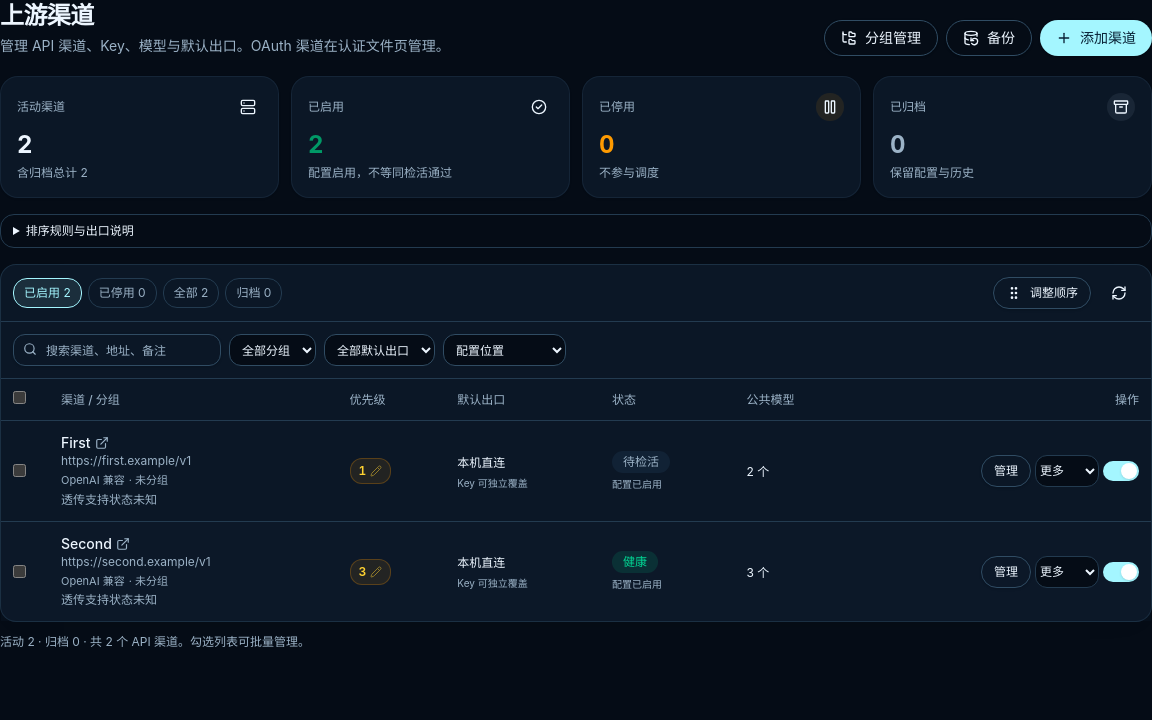
Test: channel management workflow › makes selection and batch egress directly available
This screenshot has width=1152, height=720.
Click the checkbox named "选择 First" at (20, 471), box [13,464,26,477]
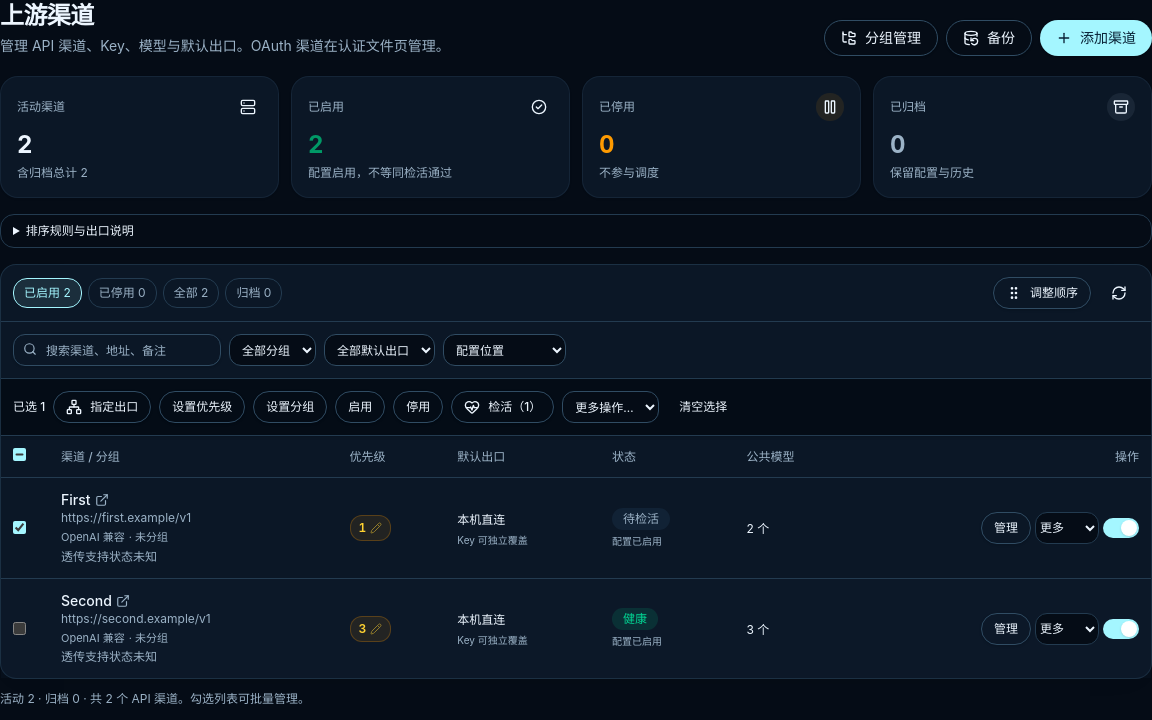
Expected: the button "指定出口" is shown
Expected: the button "设置优先级" is shown, [159,391,245,423]
Click the button "指定出口" at (102, 407), box [53,391,151,423]
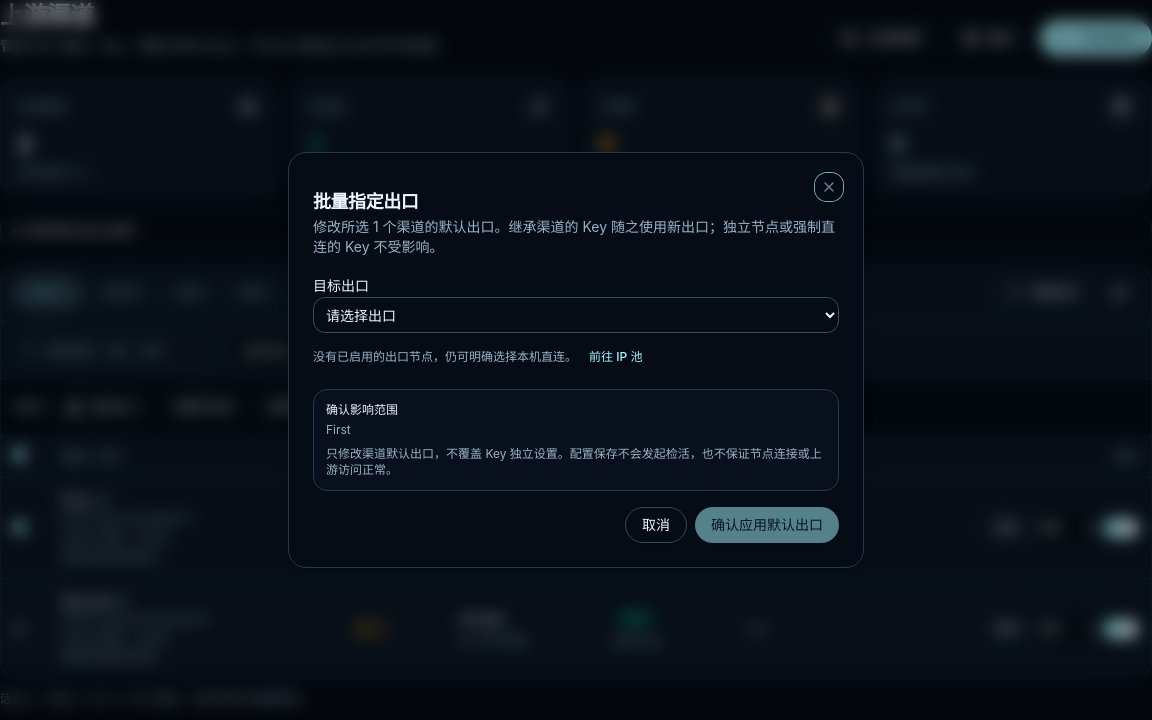
Expected: the heading "批量指定出口" is shown, [313,191,418,212]
